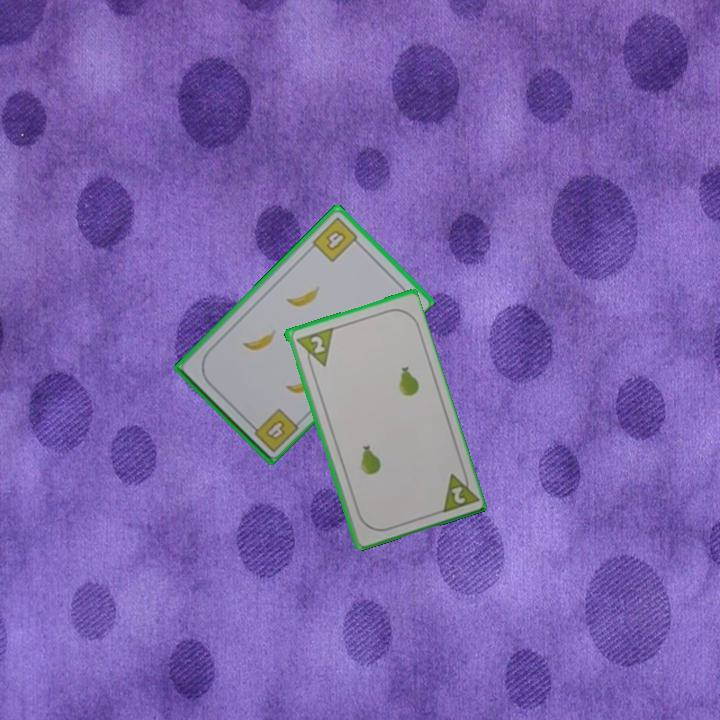2p: (436, 465, 480, 516), (292, 324, 335, 373)
4b: (309, 213, 364, 265), (245, 406, 301, 455)
